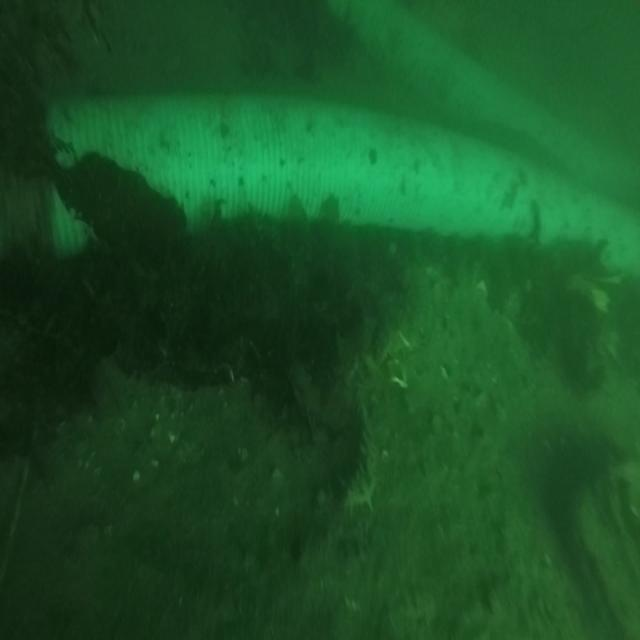holothurian: (344, 379, 378, 519)
